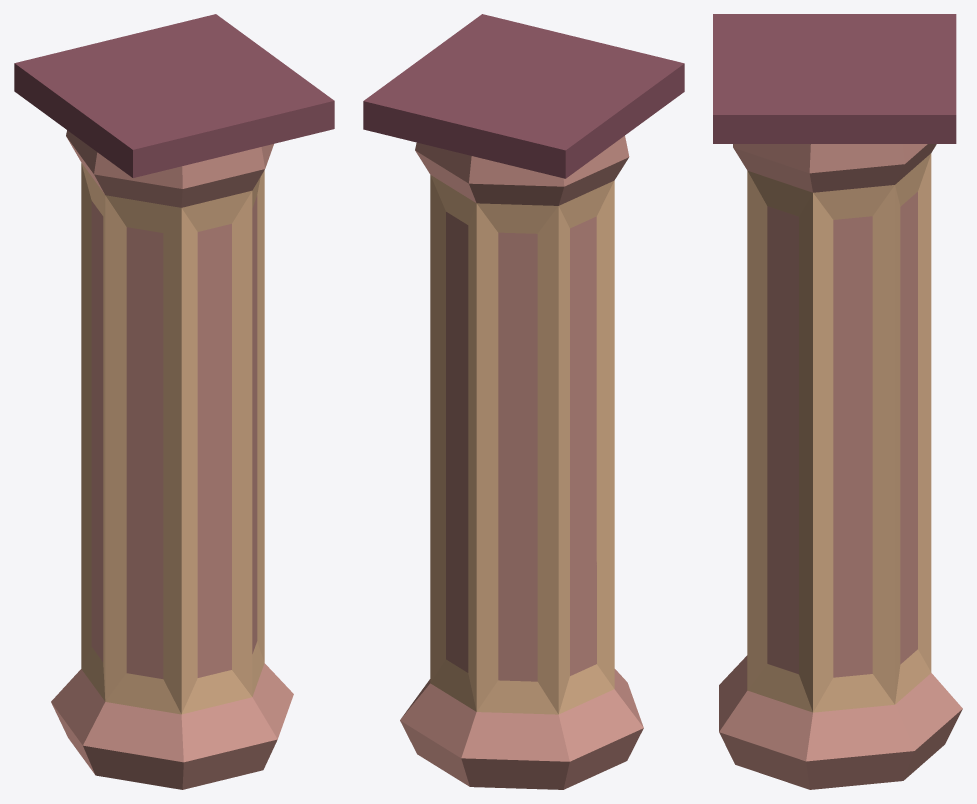
File: Pilar1.fbx
The picture shows the model from 3 angles, left to right: view 1: azimuth 30°, elevation 25°; view 2: azimuth 150°, elevation 25°; view 3: azimuth 270°, elevation 25°; orthographic projection. The views are drawn at different scales.
Visible parts, largest first — view 1: Cylinder.001; view 2: Cylinder.001; view 3: Cylinder.001.
Part boxes in pixels (box(x1,y1,x2,y2)): Cylinder.001: box(14, 14, 334, 789); Cylinder.001: box(363, 14, 684, 789); Cylinder.001: box(713, 14, 962, 789).
Bounding box in the file's own units: 2.12 × 6.37 × 2.12.
